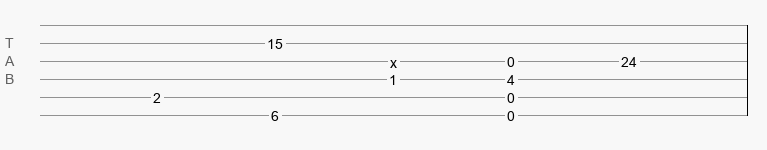0: (507, 54, 515, 64), (507, 108, 515, 118), (507, 90, 515, 100)
1: (389, 72, 397, 82)
15: (267, 36, 283, 46)
2: (153, 90, 161, 100)
24: (621, 54, 637, 64)
4: (507, 72, 515, 82)
6: (271, 108, 279, 118)
x: (390, 55, 397, 63)
